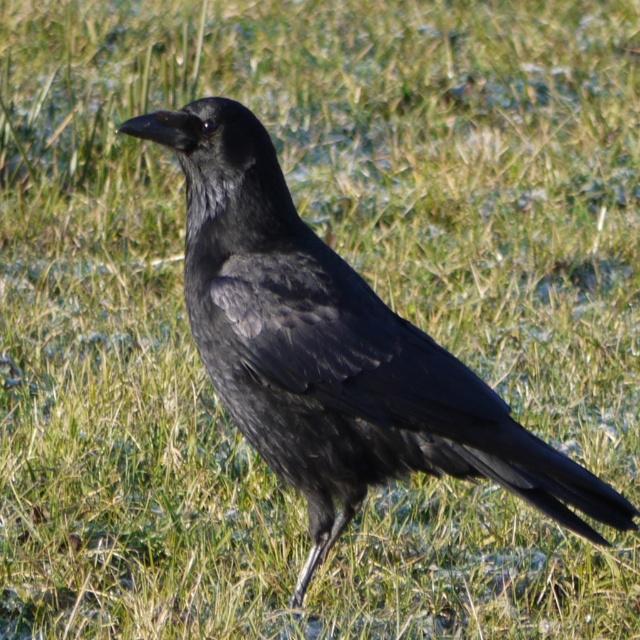Raven: (115, 96, 640, 613)
